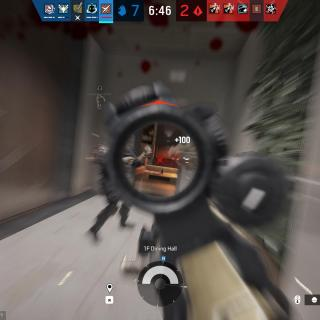Character: (85, 130, 154, 247)
Friend_label: (88, 84, 112, 97)
